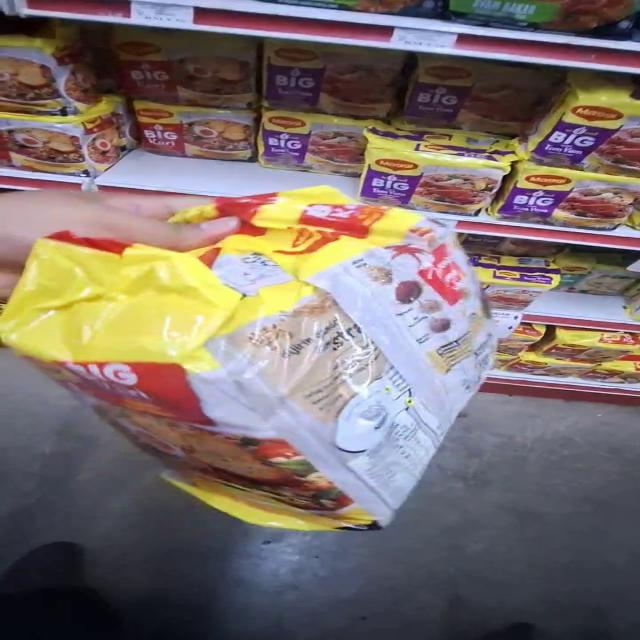Maggi: (36, 201, 508, 519)
